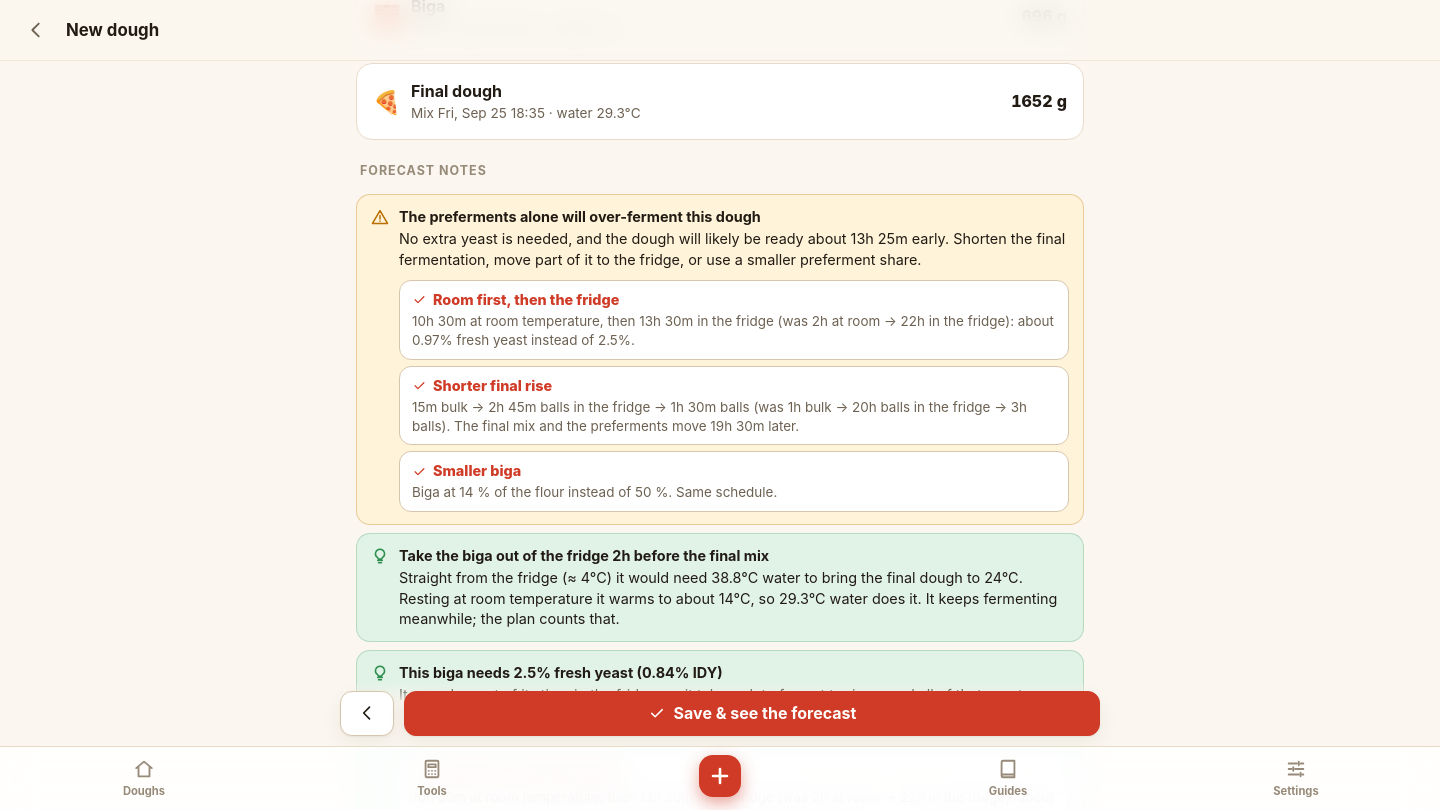
Test: fixes and cold preferments › applies fixes to the draft in the wizard
This screenshot has width=1440, height=810.
(page scrolled)
Click the button "Shorter final rise" at (734, 405), box [399,366,1069,445]
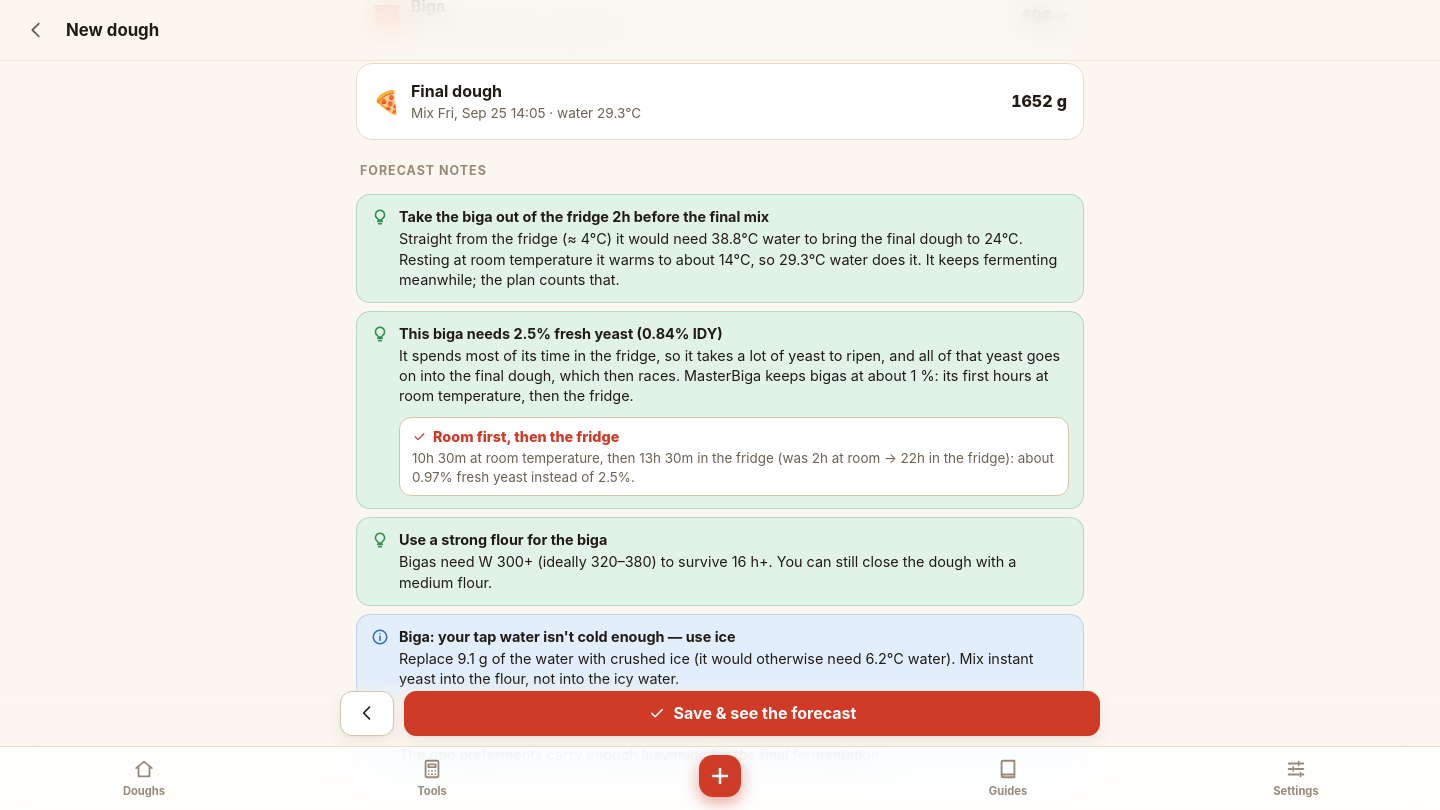
Expected: the text "The preferments alone will over-ferment this dough" is gone
